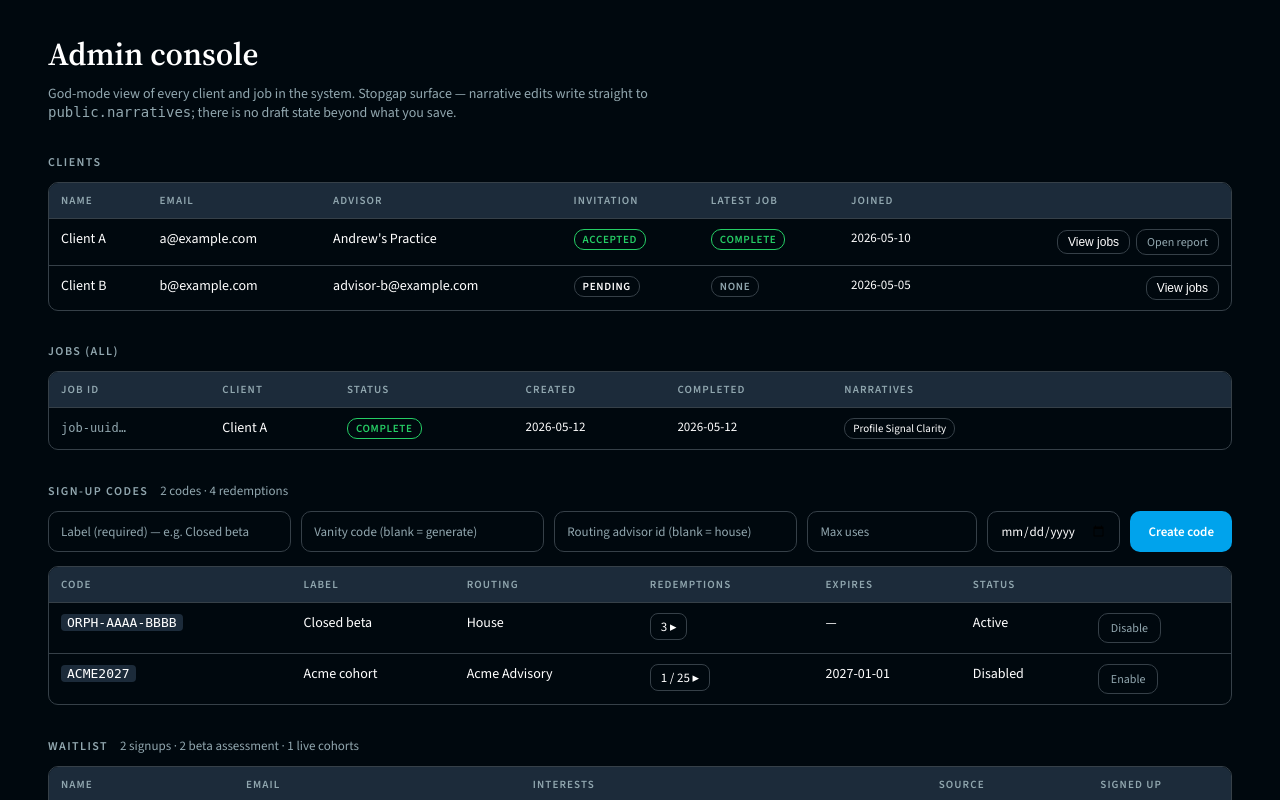
Test case: AdminPage › filters the jobs pane to the selected client
This screenshot has width=1280, height=800.
Click the button "View jobs" next to "Open report" at (1093, 242), box left=1057, top=230, right=1130, bottom=254
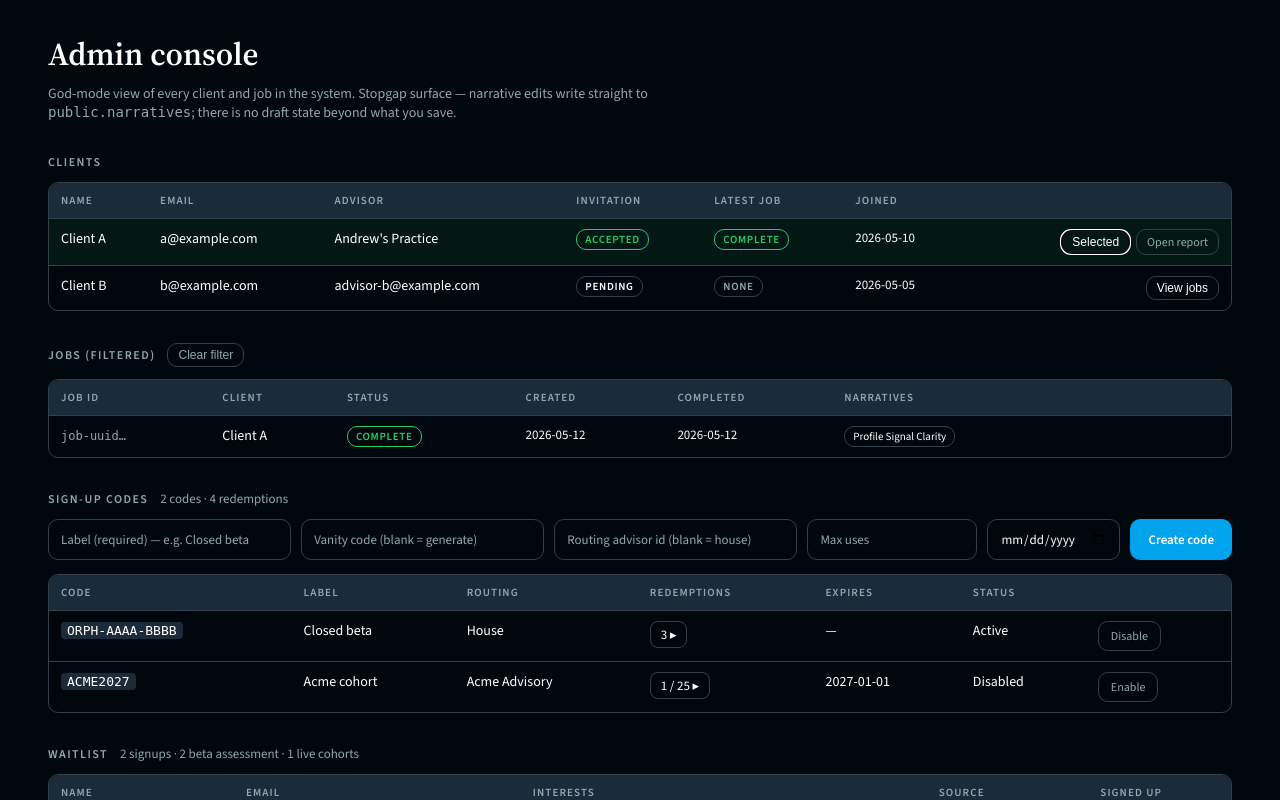
Now the heading "Jobs (filtered) Clear filter" is shown, box left=48, top=343, right=244, bottom=367
Now the button "Clear filter" is shown, box left=168, top=343, right=244, bottom=367
